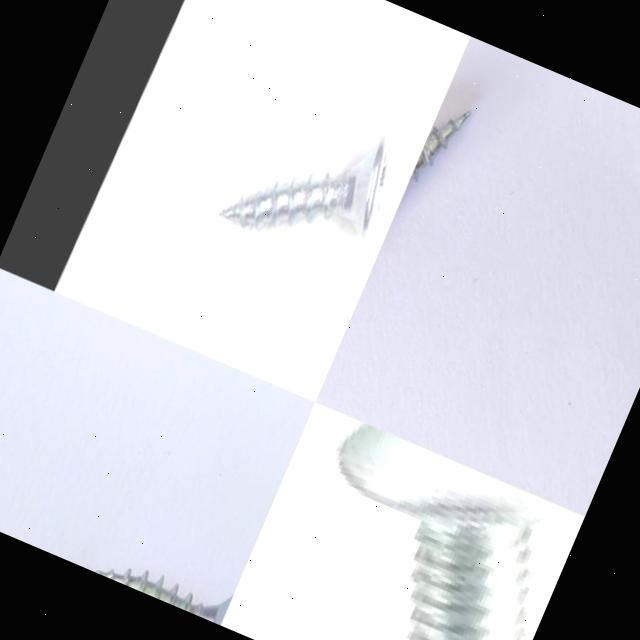Screw: (334, 422, 582, 640), (220, 131, 391, 243), (95, 568, 233, 625), (409, 109, 471, 180)
